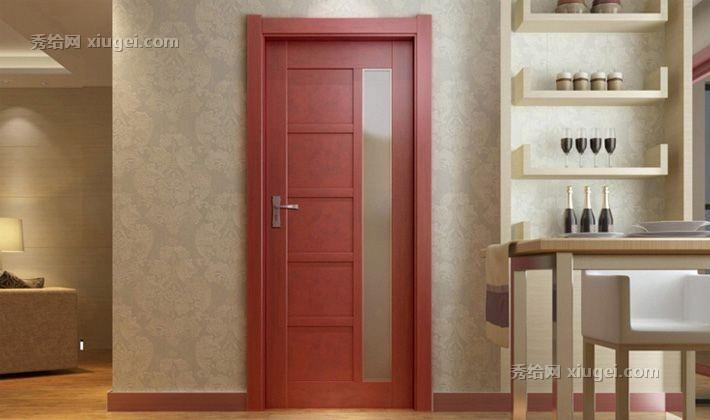door: (262, 34, 415, 400)
